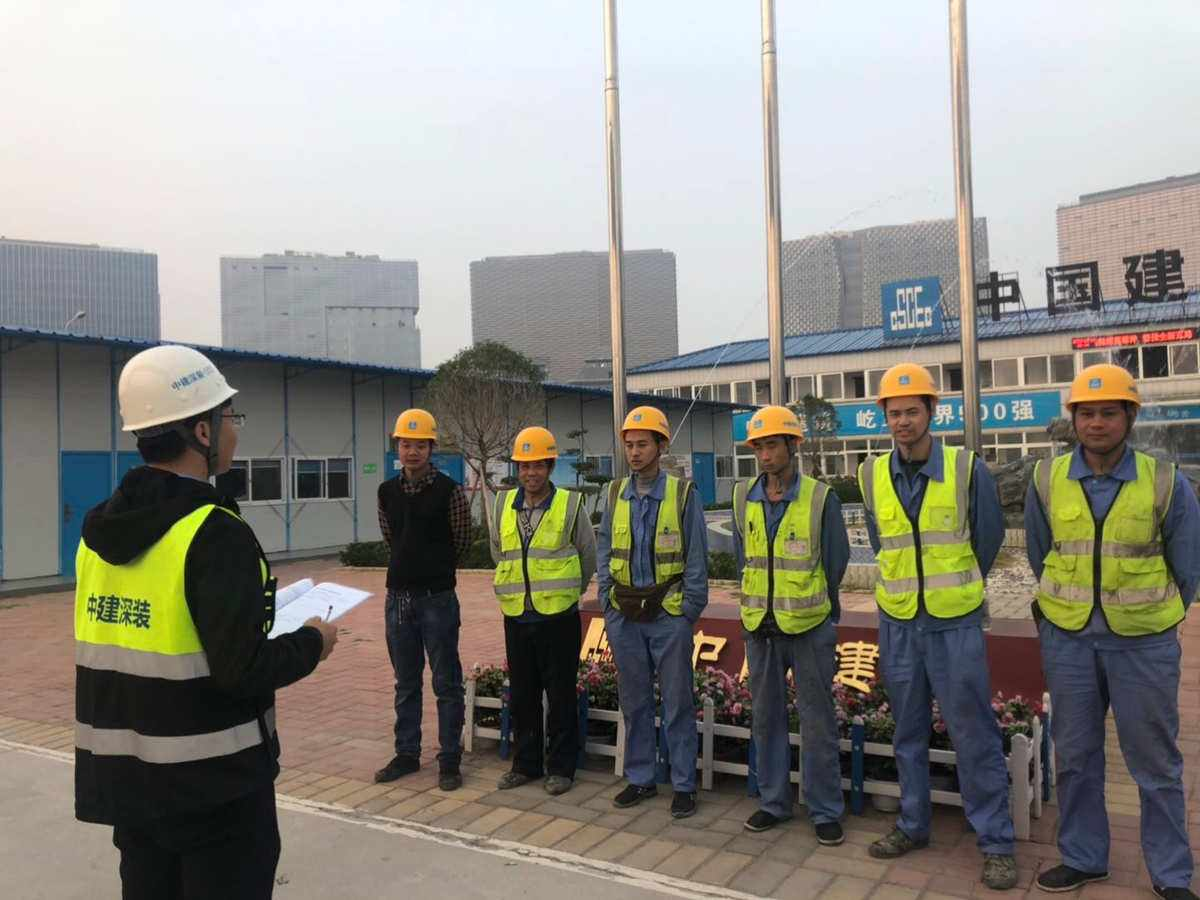ordinary_clothes: (375, 471, 459, 593)
person: (69, 341, 339, 900), (1023, 361, 1200, 900), (853, 358, 1018, 892), (728, 405, 851, 848), (595, 403, 712, 821), (485, 426, 595, 798), (371, 405, 475, 794)
reflective_vest: (70, 502, 287, 825), (1031, 447, 1188, 639), (854, 448, 987, 624), (729, 473, 832, 638), (602, 473, 700, 618), (490, 486, 579, 623)
safety_helmet: (115, 338, 248, 477), (1063, 362, 1143, 456), (876, 357, 939, 449), (744, 402, 808, 475), (619, 403, 674, 477), (509, 424, 562, 495), (388, 408, 441, 473)
